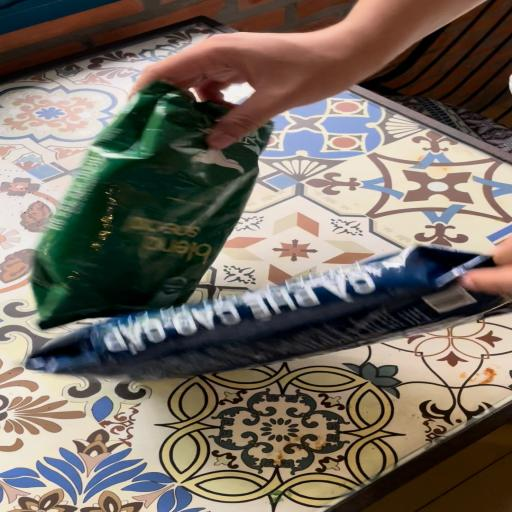cafe_hat: (26, 245, 512, 380)
cafe_xay: (31, 83, 272, 329)
